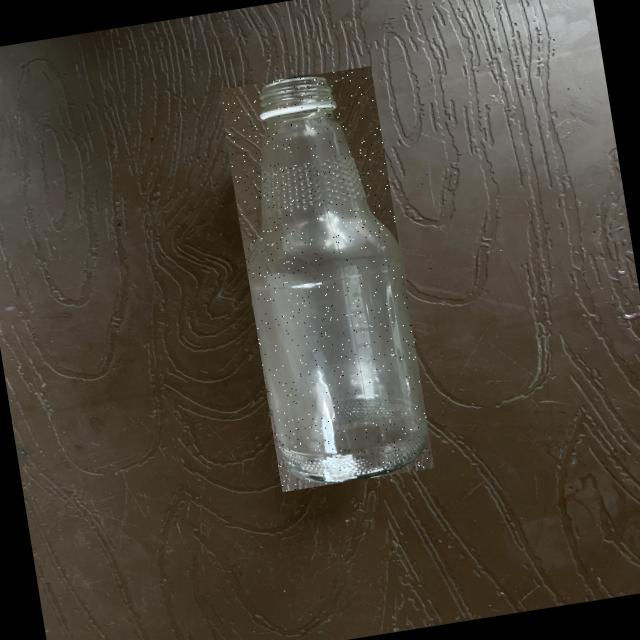Glass_Bottle: (247, 77, 426, 482)
